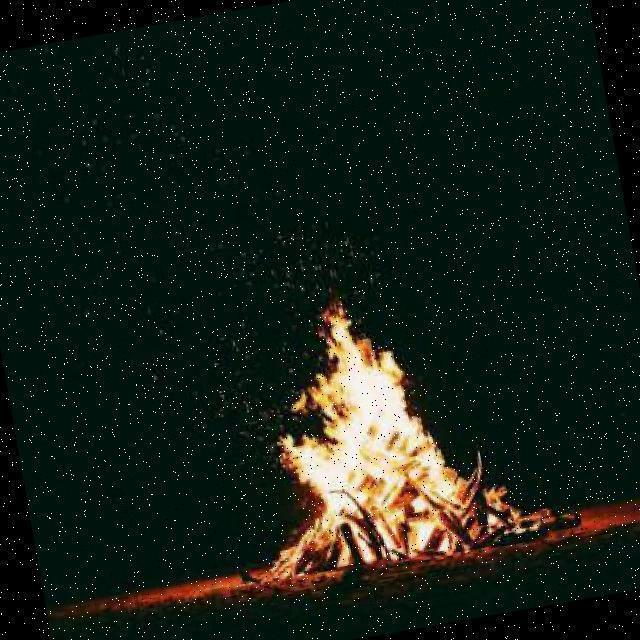Fire: (274, 289, 554, 584)
